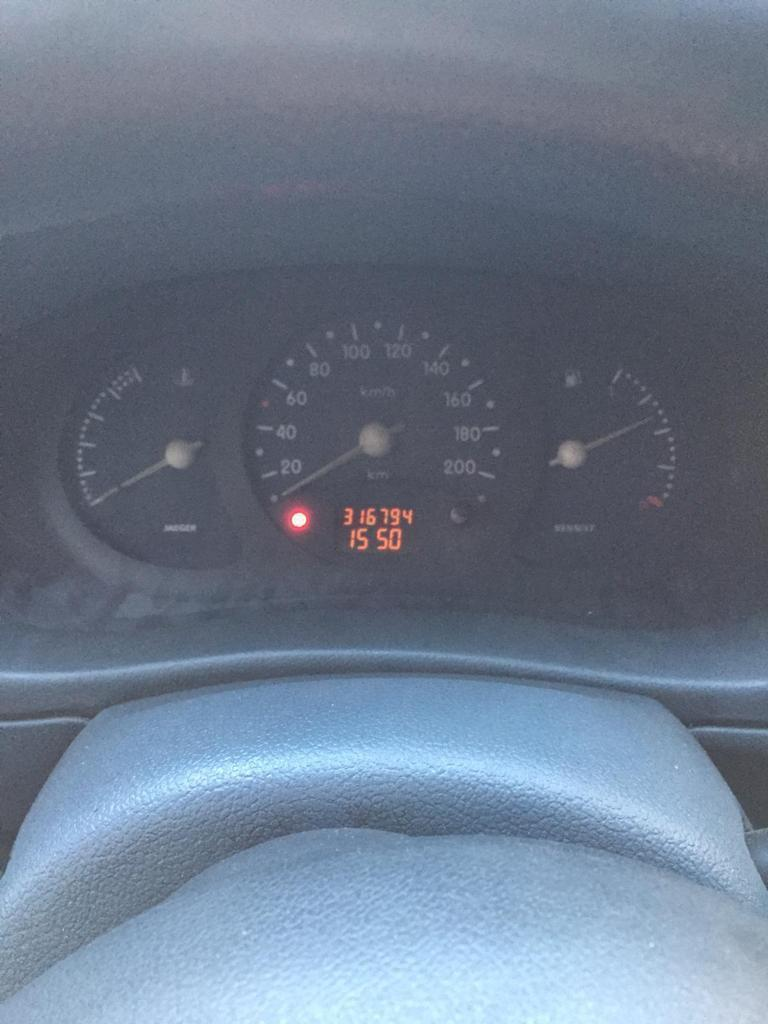0: (388, 527, 401, 550)
1: (349, 528, 355, 550), (358, 508, 364, 525)
3: (342, 506, 354, 526)
4: (401, 508, 414, 524)
5: (374, 526, 388, 550), (355, 527, 368, 550)
6: (365, 507, 376, 526)
7: (378, 507, 389, 524)
9: (389, 507, 401, 526)
odometer: (328, 501, 424, 562)
